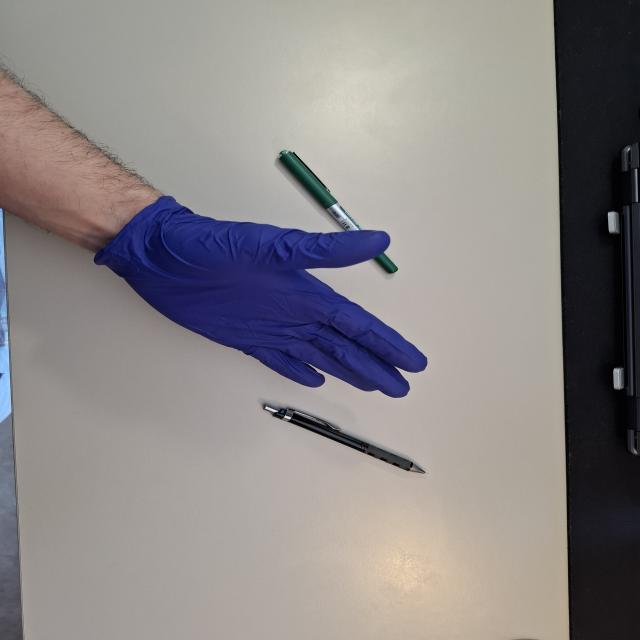glove_on: (89, 190, 431, 400)
